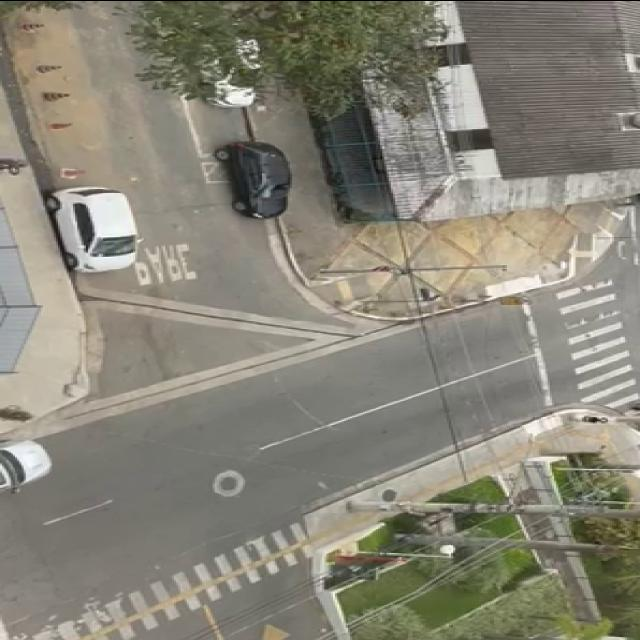car: (39, 176, 150, 276), (185, 0, 279, 112), (214, 132, 304, 222), (0, 435, 72, 498)
